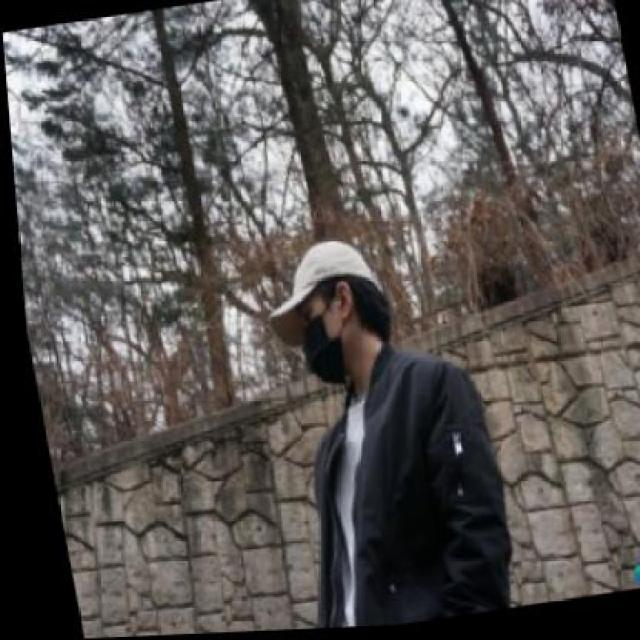hat: (248, 235, 389, 356)
